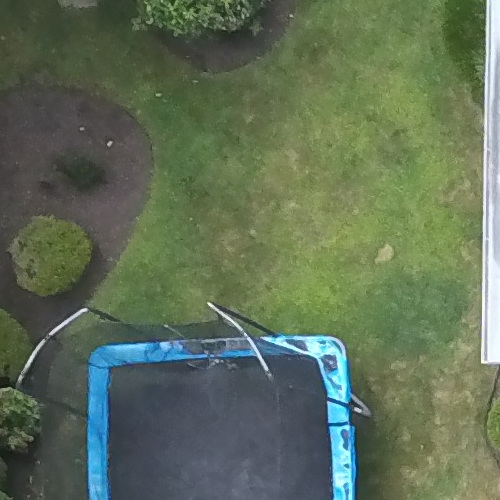trampoline: (18, 314, 363, 500)
